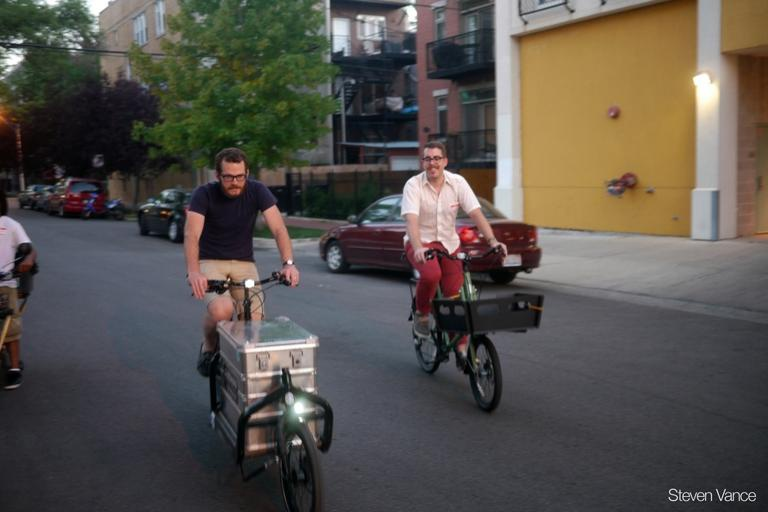non-vehicle: (189, 270, 333, 511), (401, 244, 544, 413)
